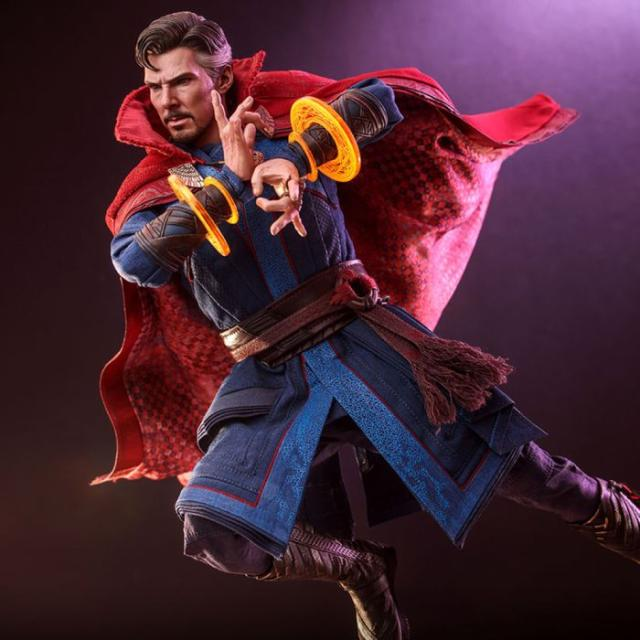doctor_strange: (113, 19, 455, 494)
